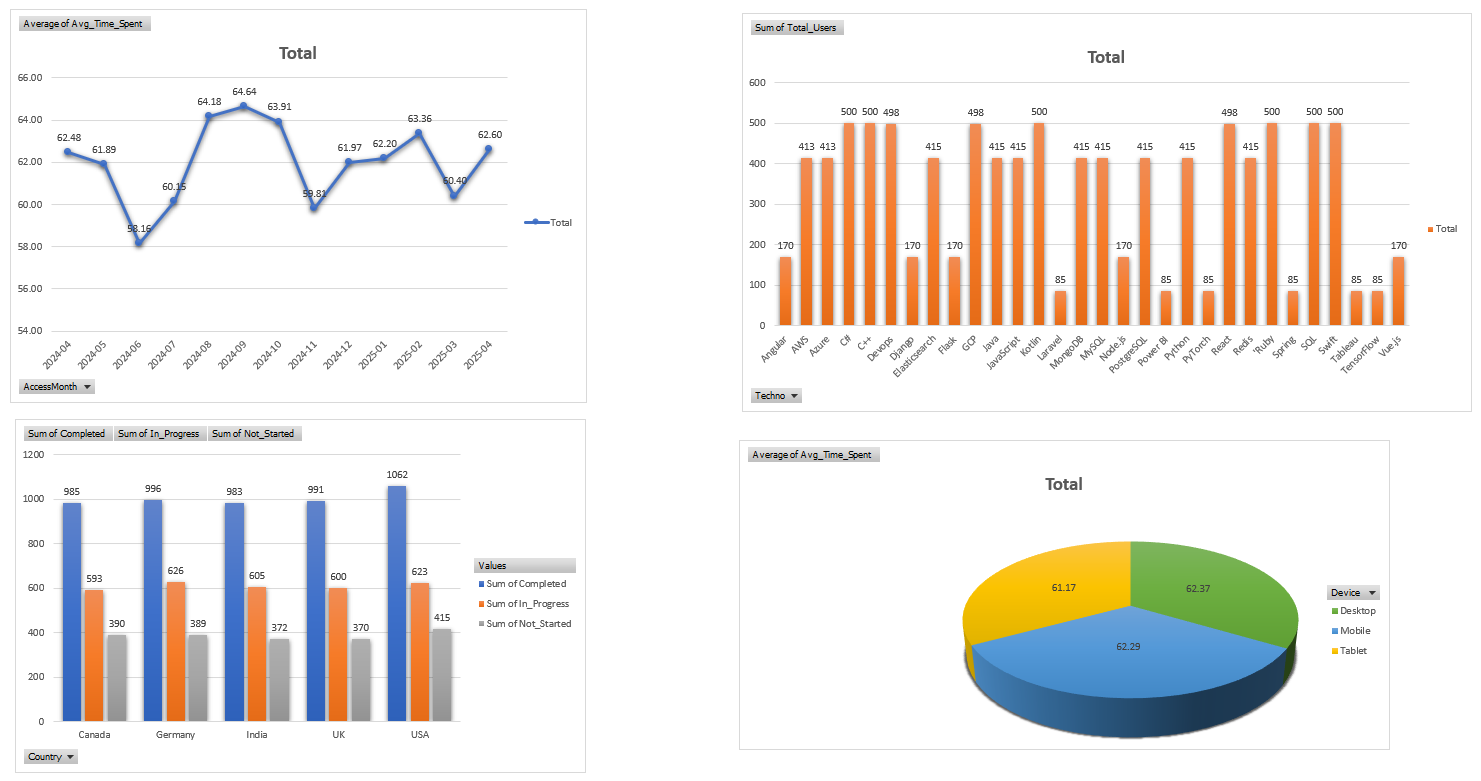

Layout of this report page (visuals, bound fields, positions):
{"tool":"tableau","page":{"name":"Dashboard 1","canvas":[1000,800],"ordinal":0},"visuals":[{"type":"worksheet","title":"Sheet 2","mark":"Automatic","rows":["Calculation_1610599880625545216"],"cols":["Country"],"box":[8,8,253.5,196]},{"type":"worksheet","title":"Sheet 3","mark":"Automatic","rows":["Techno"],"cols":["Pred_Prob_Completed"],"box":[261.5,8,253.5,392]},{"type":"legend","title":"Sheet 2","param":"[federated.13y5xyl160pujq14ep3eb0imaagb].[none:Predicted_Status:nk]","box":[515,8,477,93]},{"type":"legend","title":"Sheet 1","param":"[federated.13y5xyl160pujq14ep3eb0imaagb].[sum:Calculation_1610599880625545216:qk","box":[515,101,477,114]},{"type":"worksheet","title":"Sheet 5","mark":"Automatic","rows":["Techno"],"cols":["Country"],"box":[8,204,253.5,196]},{"type":"legend","title":"Sheet 3","param":"[federated.13y5xyl160pujq14ep3eb0imaagb].[sum:Techno_Difficulty:qk]","box":[515,215,477,73]},{"type":"legend","title":"Sheet 5","param":"[federated.13y5xyl160pujq14ep3eb0imaagb].[sum:Pred_Prob_Completed:qk]","box":[515,288,477,73]},{"type":"worksheet","title":"Sheet 1","mark":"Automatic","rows":["CompletionStatus"],"cols":["Predicted_Status"],"box":[8,400,253.5,392]},{"type":"worksheet","title":"Sheet 4","mark":"Automatic","rows":["Pred_Prob_Completed"],"cols":["Time_Spent"],"box":[261.5,400,253.5,392]}]}

Visuals, with their boxes on the page's 1000x800 design canvas (x1, y1, x2, y2). These are canvas units, not pixel positions in the 1481x781 screenshot, which may show the page scaled, cropped or inside an application window:
"Sheet 2" worksheet: <box>8,8,262,204</box>
"Sheet 3" worksheet: <box>262,8,515,400</box>
"Sheet 2" legend: <box>515,8,992,101</box>
"Sheet 1" legend: <box>515,101,992,215</box>
"Sheet 5" worksheet: <box>8,204,262,400</box>
"Sheet 3" legend: <box>515,215,992,288</box>
"Sheet 5" legend: <box>515,288,992,361</box>
"Sheet 1" worksheet: <box>8,400,262,792</box>
"Sheet 4" worksheet: <box>262,400,515,792</box>
